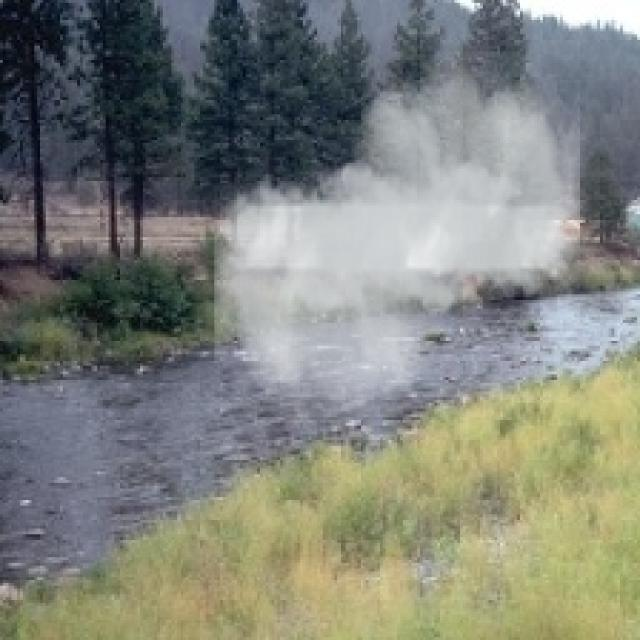smoke: (214, 51, 580, 423)
